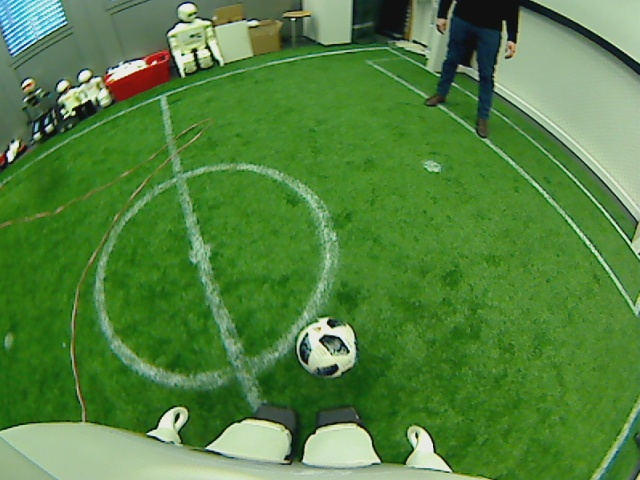ball: (292, 316, 360, 379)
